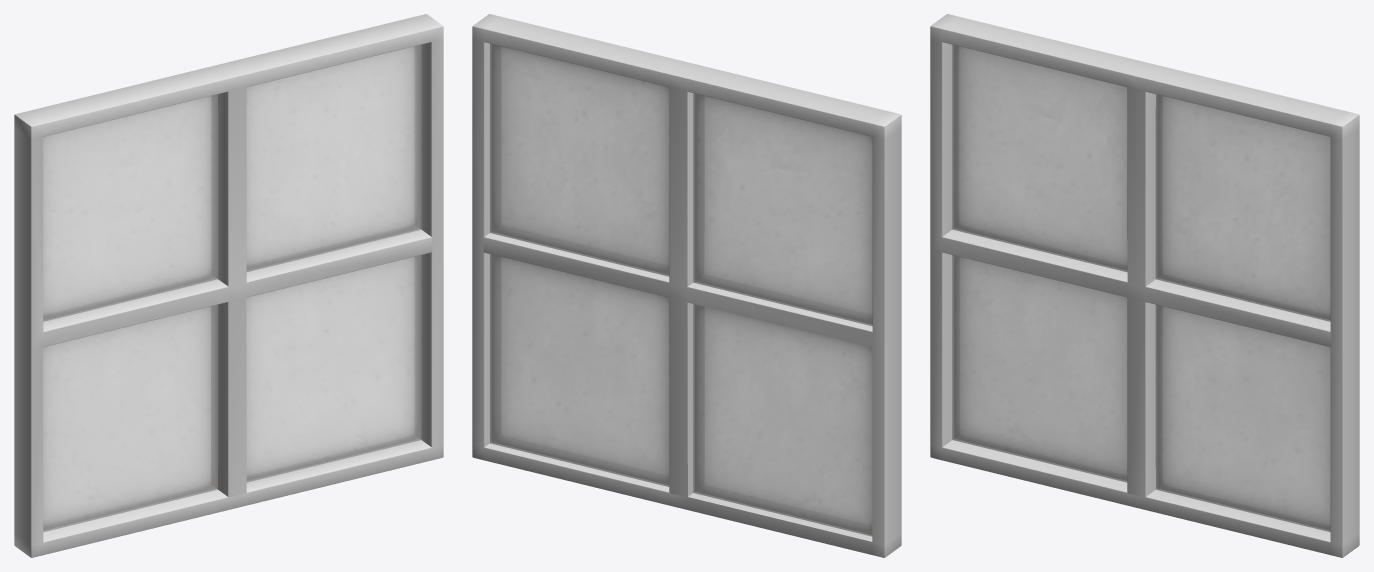
Rendered from Window.fbx.
The picture shows the model from 3 angles, left to right: view 1: azimuth 30°, elevation 25°; view 2: azimuth 150°, elevation 25°; view 3: azimuth 330°, elevation 25°; orthographic projection.
Parts seen in each view (by area): view 1: Glass, Window_Frame; view 2: Glass, Window_Frame; view 3: Glass, Window_Frame.
Boxes of the visible parts, x1,y1,x2,y2 form: Glass: (43, 44, 421, 532); Window_Frame: (14, 14, 443, 557); Glass: (490, 43, 872, 536); Window_Frame: (472, 14, 901, 557); Glass: (952, 44, 1330, 532); Window_Frame: (930, 14, 1359, 557).
Size of the model in its own units: 1.34 by 1.34 by 0.0975.
Materials: 2 (2 with a texture image).
